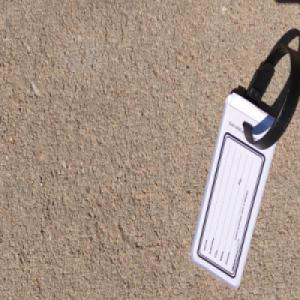LuggageTag: (188, 42, 300, 289)
